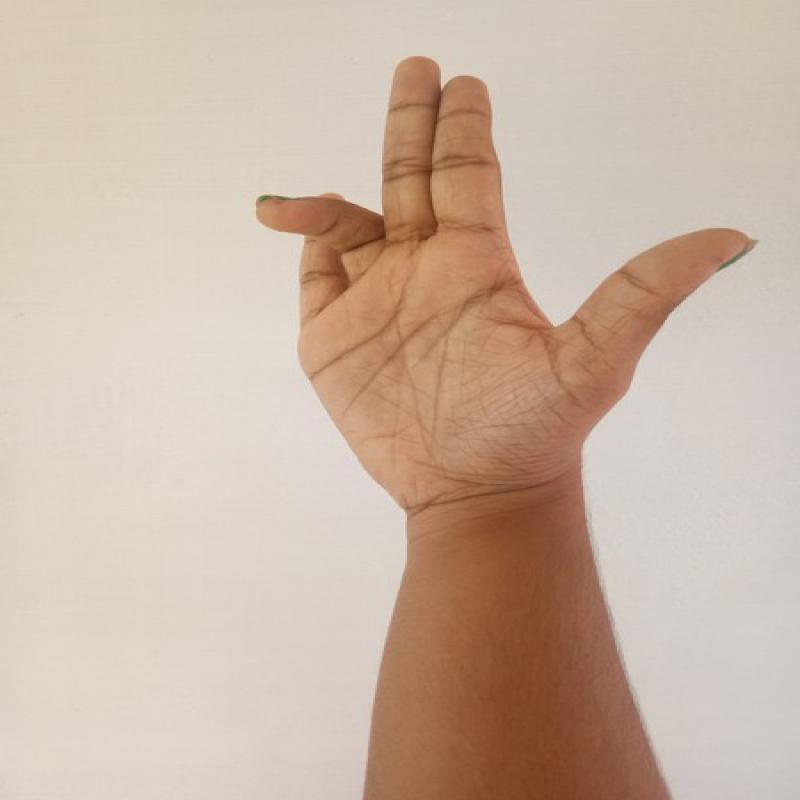Pathaaka: (244, 45, 762, 517)
